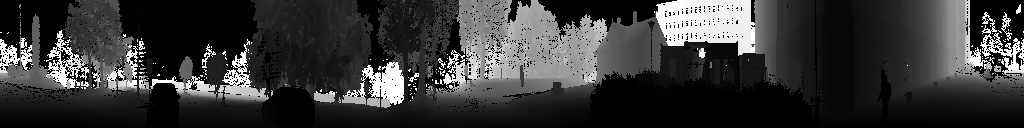car: (261, 86, 316, 128), (146, 83, 179, 128)
person: (876, 69, 892, 128), (363, 77, 371, 109), (468, 77, 474, 96), (66, 81, 70, 91)
